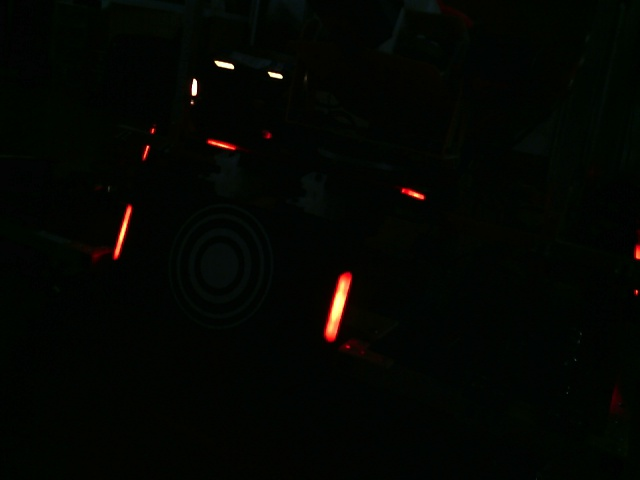lamp: (313, 265, 362, 350), (105, 202, 134, 264)
